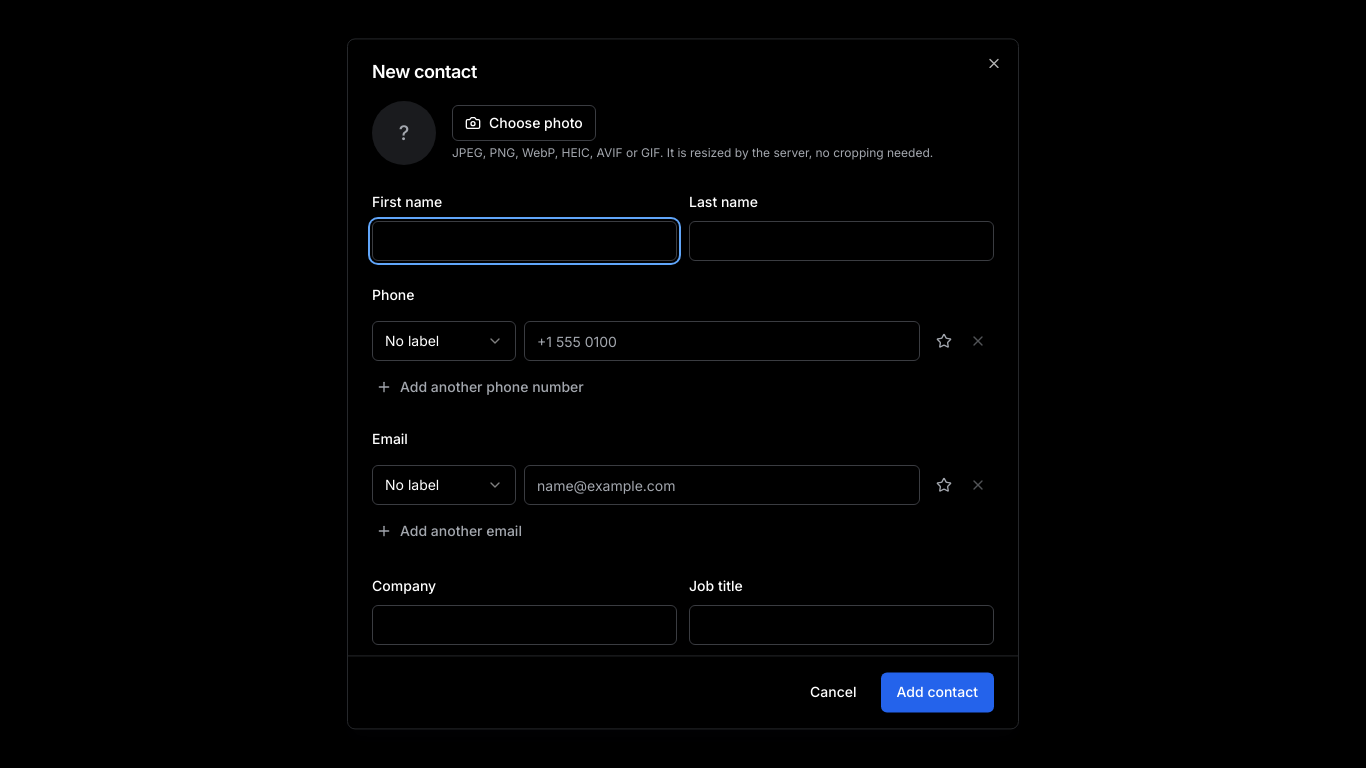
ContactEditor › refuses a half date and an empty contact before sending anything
Click the button "Add contact" at (937, 693), box [880, 673, 994, 713]
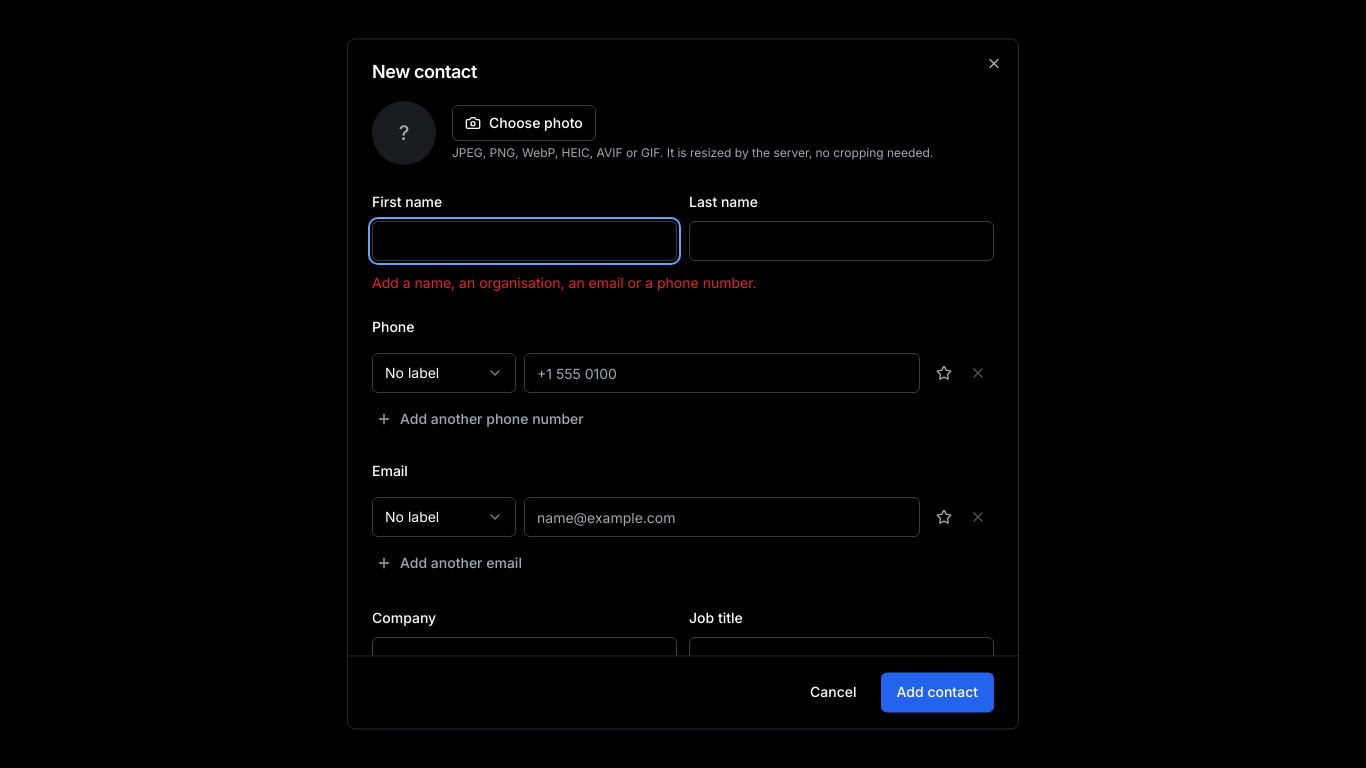
Now the message reads "Add a name, an organisation, an email or a phone number.", box [372, 274, 757, 291]
Type "Robin" into the field labelled "First name" at (524, 241), box [372, 221, 677, 261]
(page scrolled)
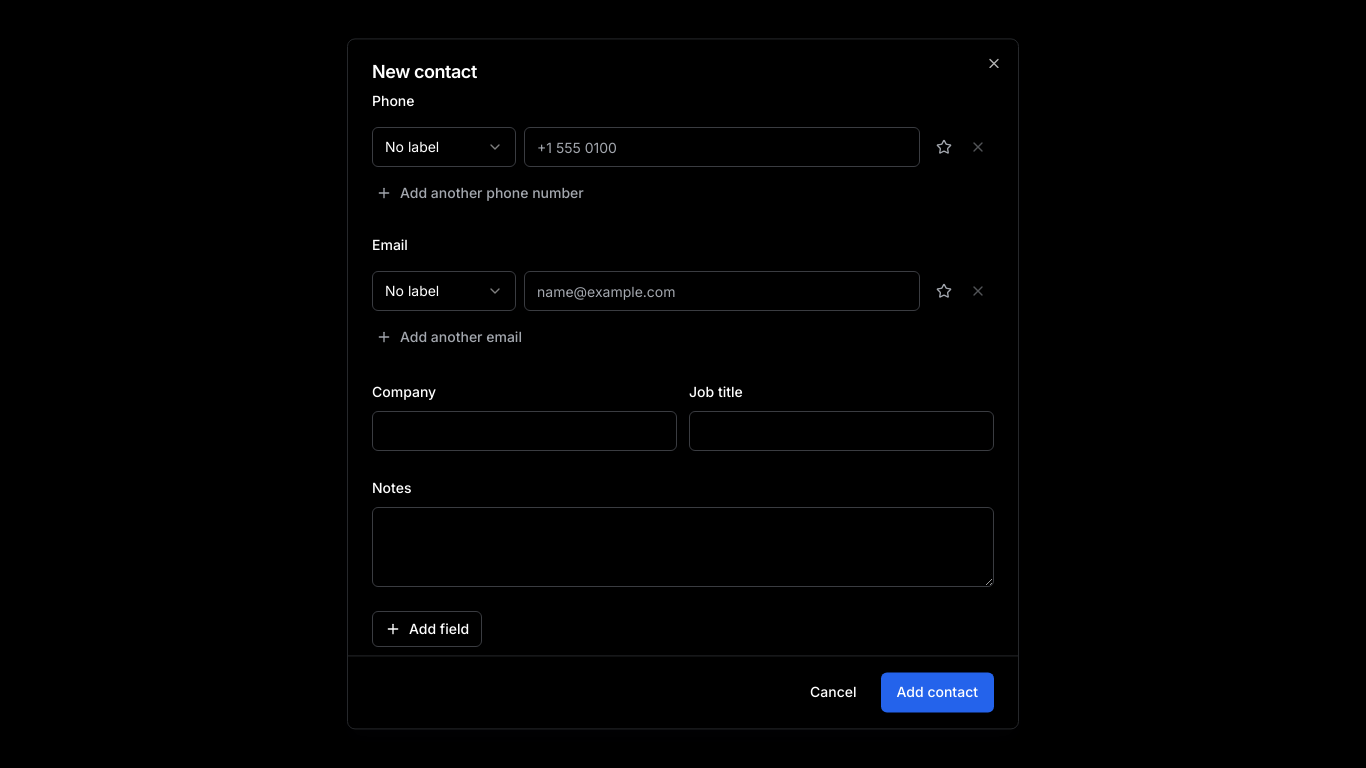
Press the mouse on the button "Add field" at (427, 629), box [372, 611, 482, 647]
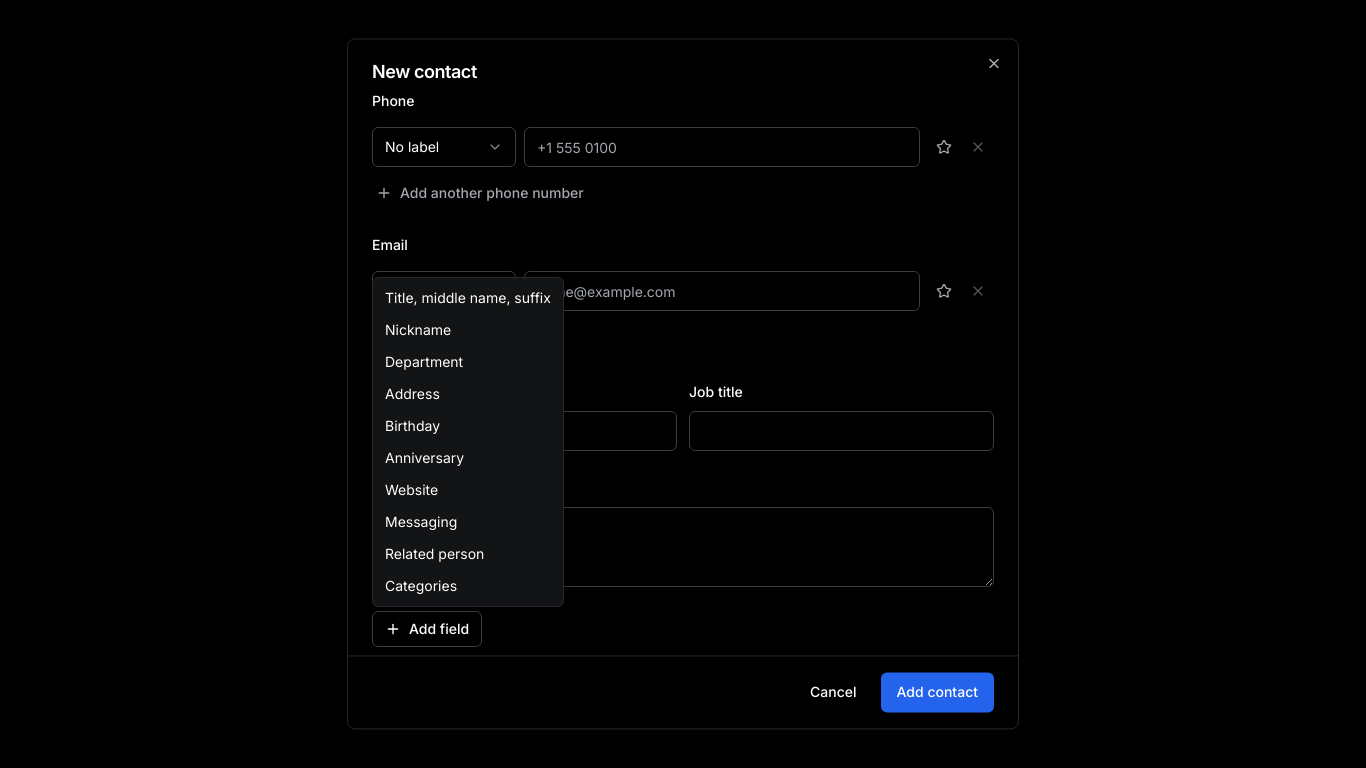
Click the menu item "Birthday" at (412, 426), box [385, 417, 440, 434]
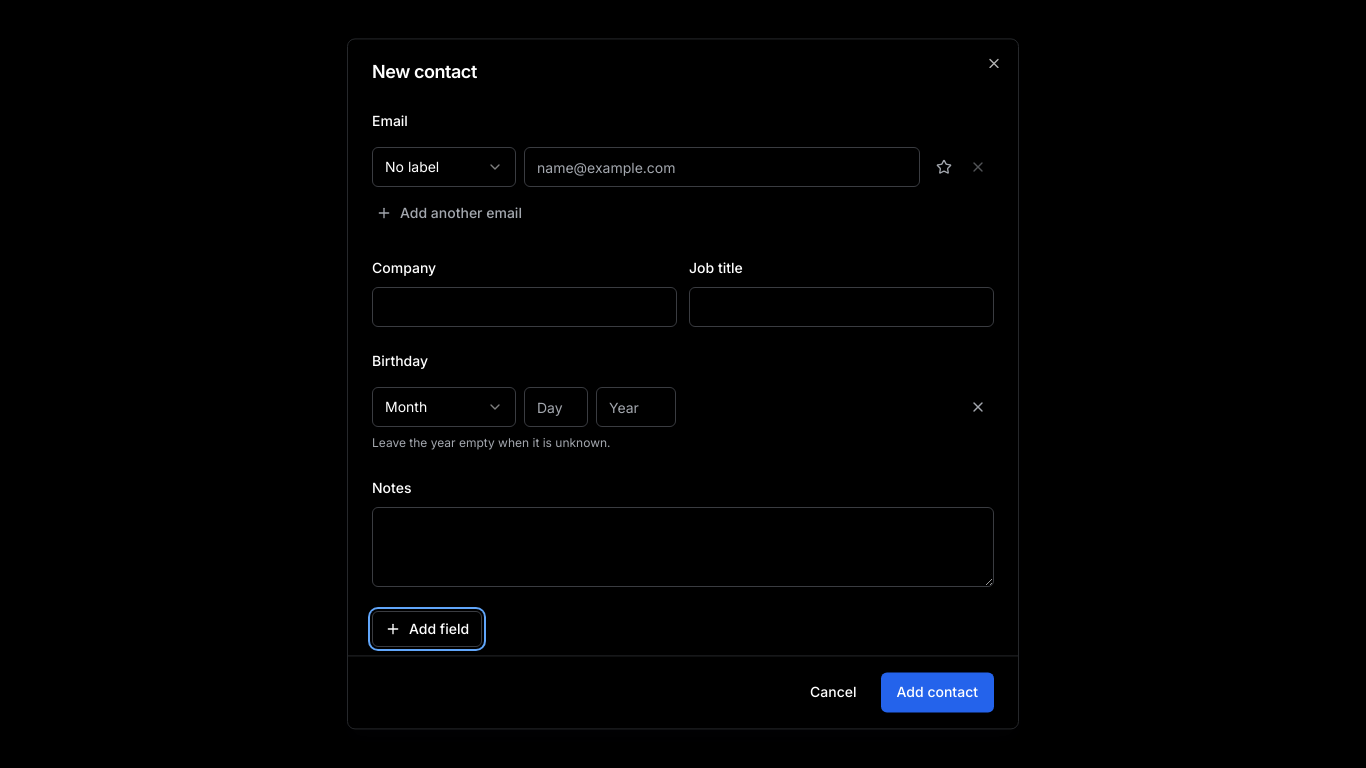
Type "14" into the field named "Birthday day" at (556, 407), box [524, 387, 588, 427]
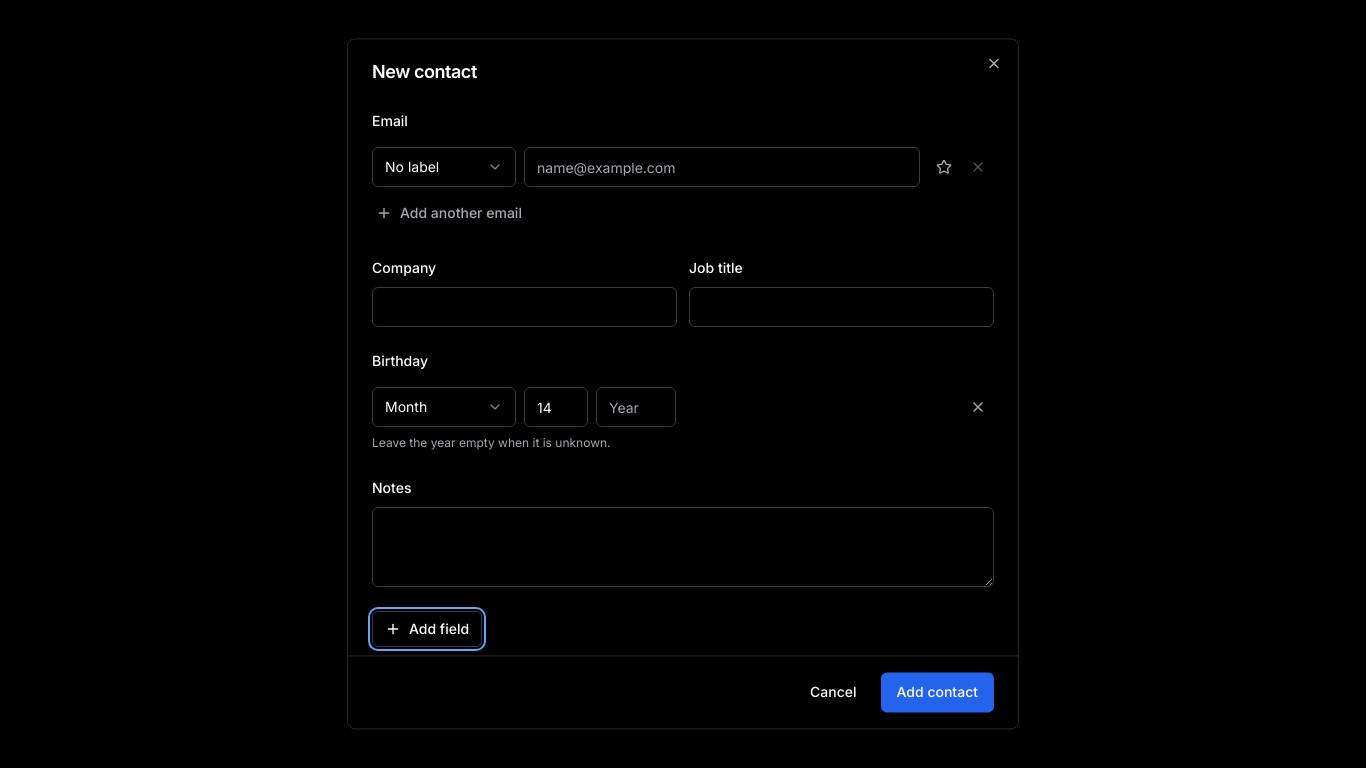
Click the button "Add contact" at (937, 693), box [880, 673, 994, 713]
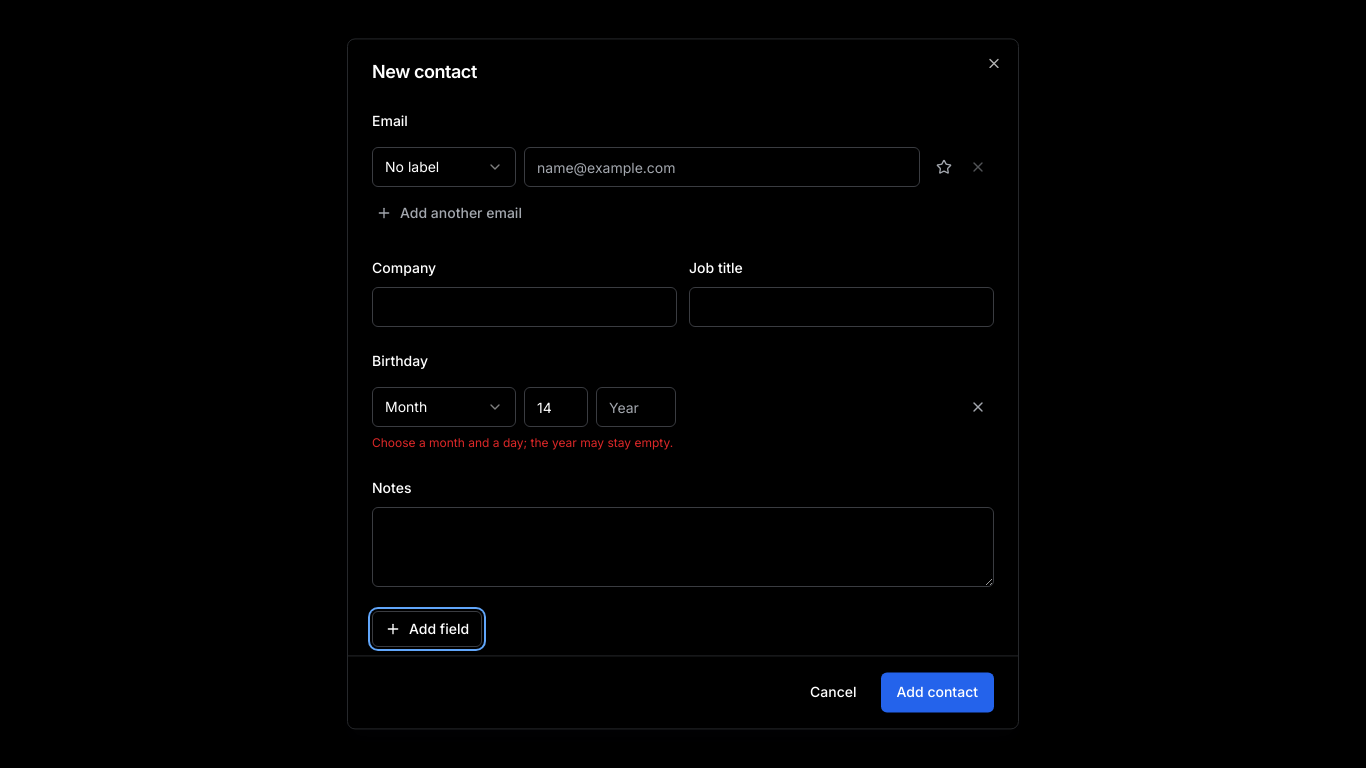
Now the text "Choose a month and a day; the year may stay empty." is shown, box [372, 435, 673, 450]
